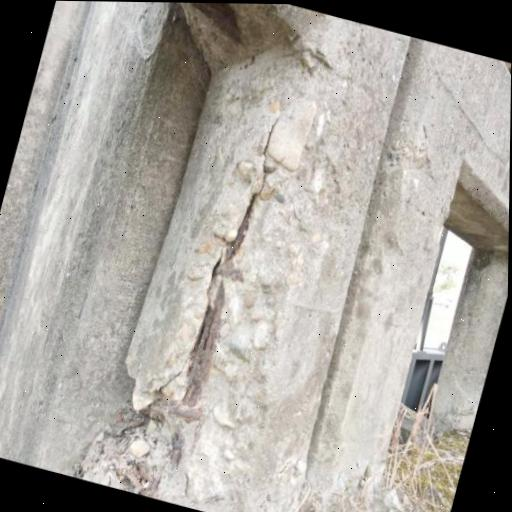exposed_rebar: (183, 281, 225, 407), (189, 3, 241, 43), (226, 196, 255, 261)
